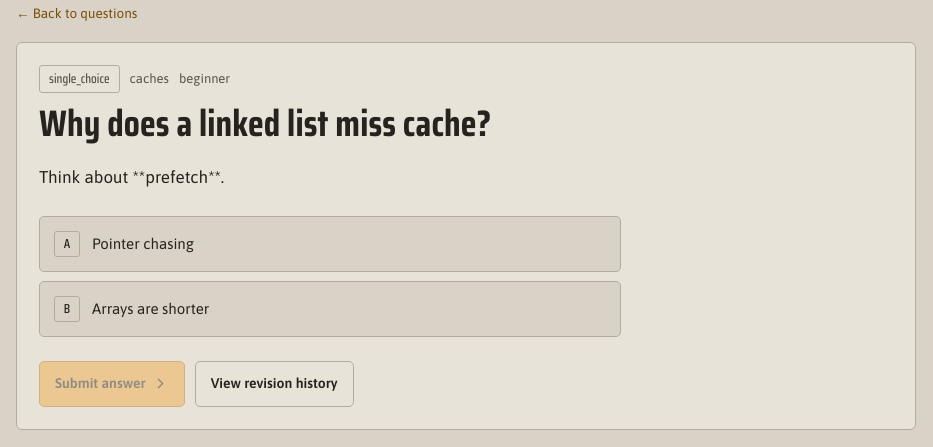
Test: QuestionDetailPage › keeps submit disabled until an option is chosen
The image size is (933, 447).
Expected: the button "Submit answer" is disabled, [39,361,185,407]
Step 1. Click the button "A Pointer chasing" → click(143, 244), box [39,216,621,272]
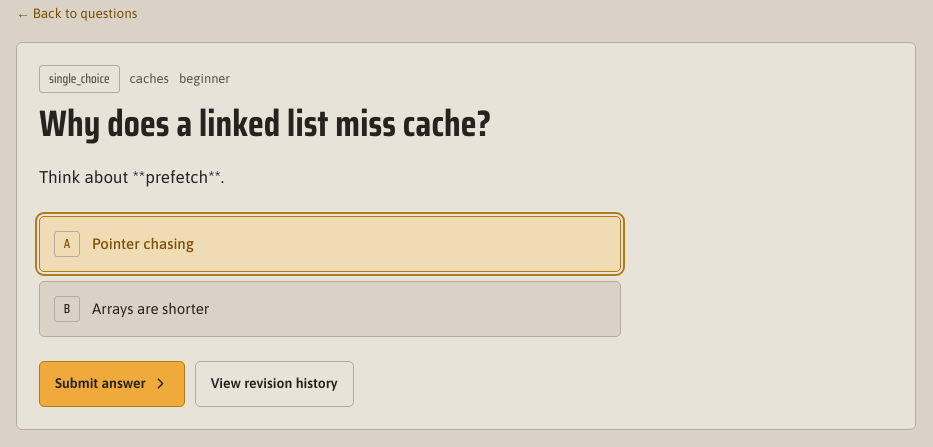
Expected: the button "Submit answer" is enabled, [39,361,185,407]
